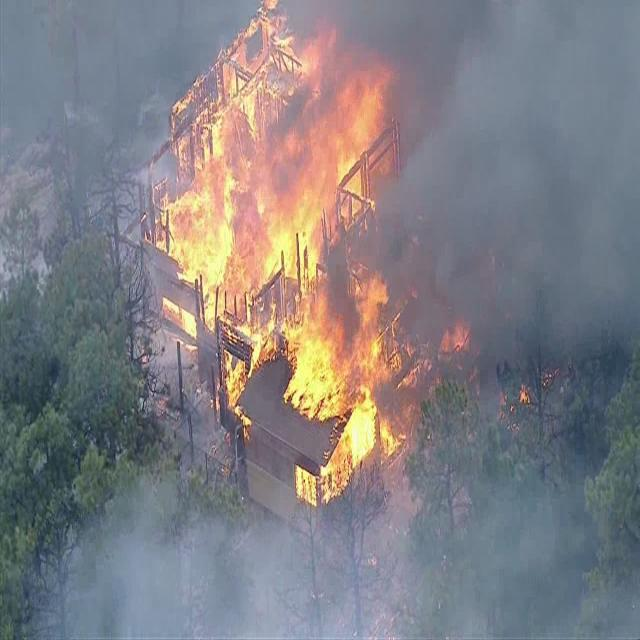Fire: (150, 0, 421, 525)
Smoke: (305, 0, 640, 384), (42, 431, 482, 640)
